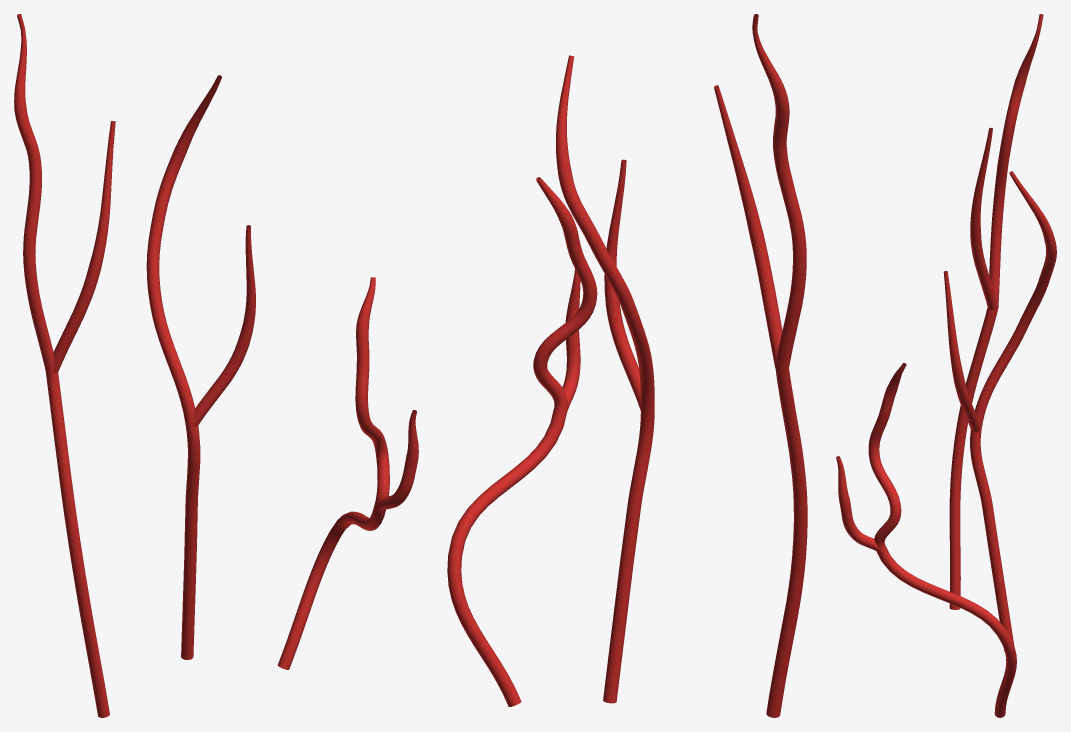
Rendered from circulatorio-proximal-lateral-striate-branches-r.glb.
The picture shows the model from 3 angles, left to right: view 1: azimuth 30°, elevation 25°; view 2: azimuth 150°, elevation 25°; view 3: azimuth 270°, elevation 25°; orthographic projection. The views are drawn at different scales.
Parts seen in each view (by area): view 1: Proximal lateral striate branches.r; view 2: Proximal lateral striate branches.r; view 3: Proximal lateral striate branches.r.
Part boxes in pixels (<box>): Proximal lateral striate branches.r: <box>14,14,418,717</box>; Proximal lateral striate branches.r: <box>447,14,807,717</box>; Proximal lateral striate branches.r: <box>836,14,1056,717</box>.
Bounding box in the file's own units: 0.00586 × 0.0122 × 0.00407.
